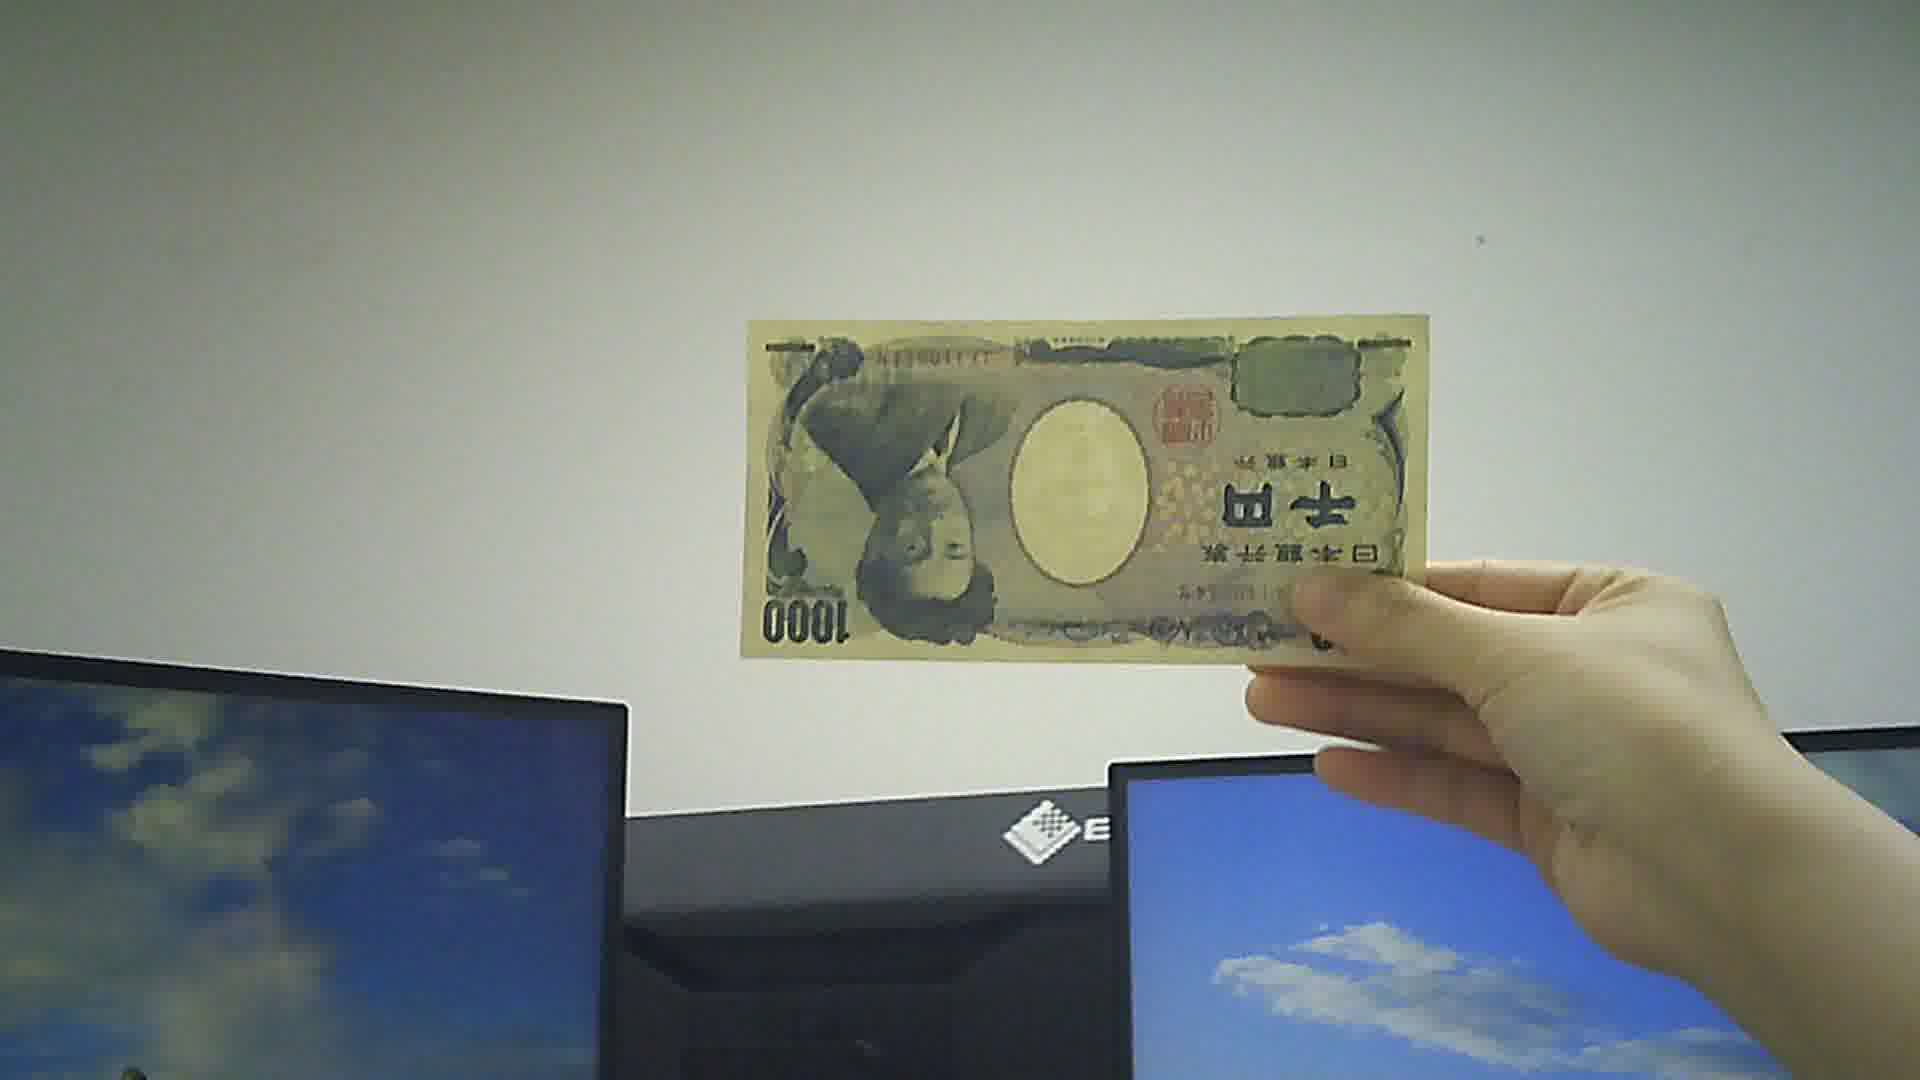1,000 Yen: (733, 301, 1453, 678)
